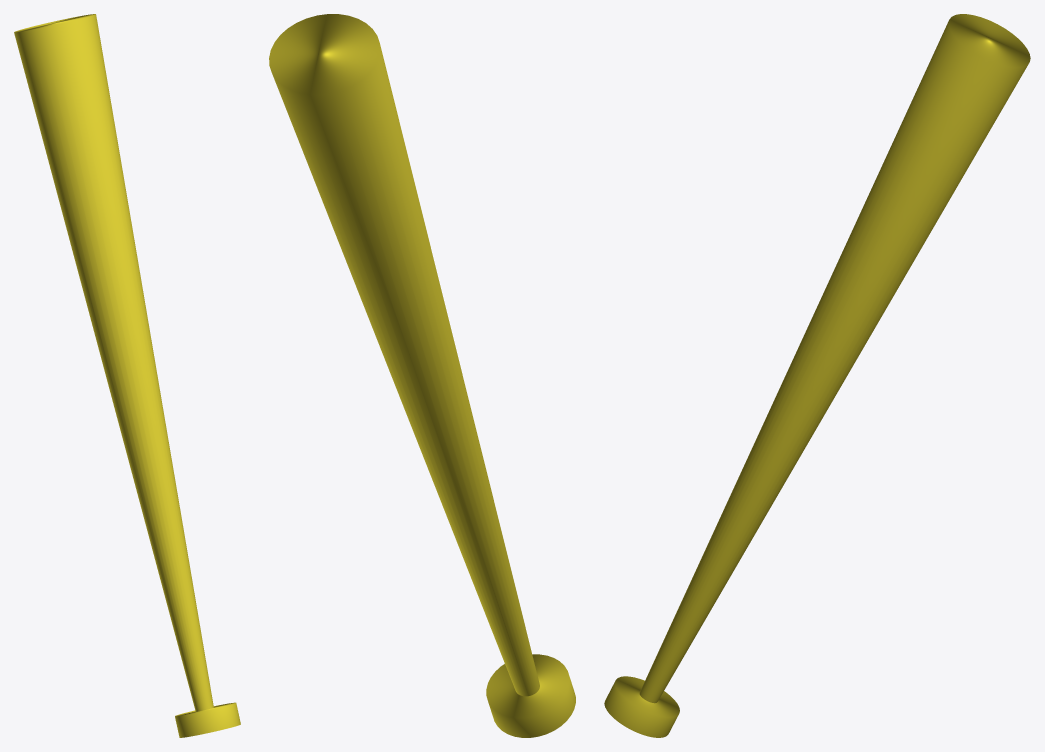
The model's file is bat.fbx.
3 views of the same model, side by side, from view 1: azimuth 30°, elevation 25°; view 2: azimuth 150°, elevation 25°; view 3: azimuth 270°, elevation 25° (orthographic). The views are drawn at different scales.
Parts seen in each view (by area): view 1: BatModel; view 2: BatModel; view 3: BatModel.
Boxes of the visible parts, <box> form: BatModel: <box>14,14,240,737</box>; BatModel: <box>269,14,575,737</box>; BatModel: <box>604,14,1030,737</box>.
Size of the model in its own units: 0.1846 by 1.49 by 0.8108.
